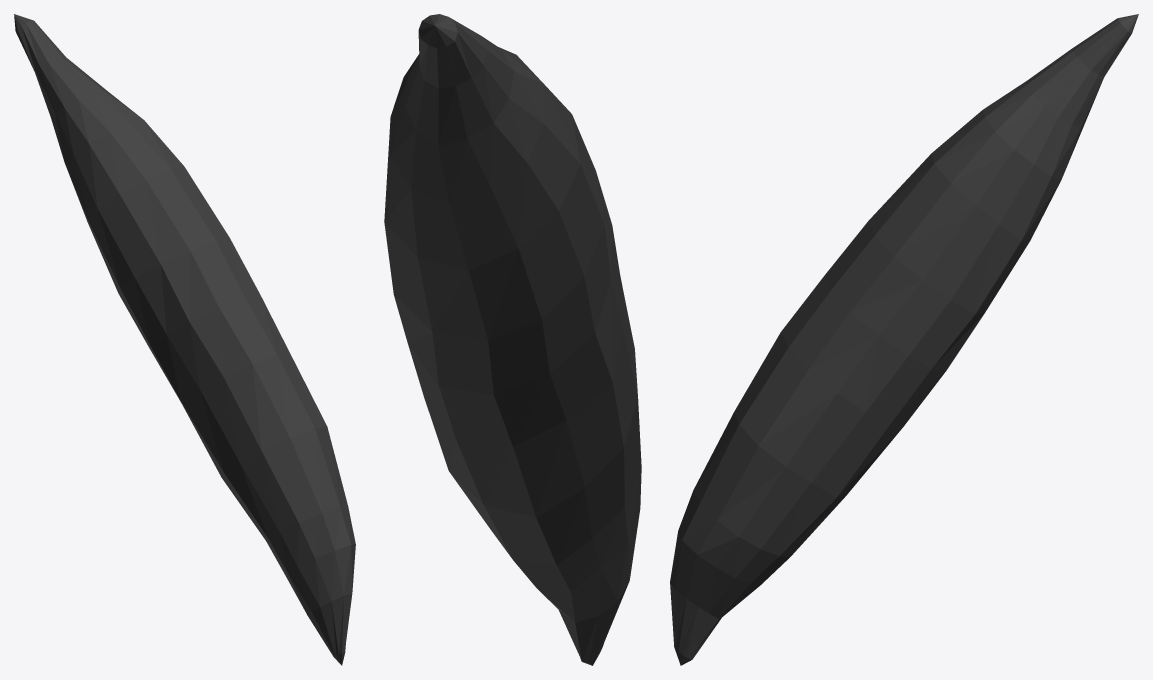
Rendered from RectusFemoris.glb.
3 renders of one model, left to right at view 1: azimuth 30°, elevation 25°; view 2: azimuth 150°, elevation 25°; view 3: azimuth 270°, elevation 25°, orthographic. The views are drawn at different scales.
Parts seen in each view (by area): view 1: RectusFemoris; view 2: RectusFemoris; view 3: RectusFemoris.
Part boxes in pixels (box(x1,y1,x2,y2)): RectusFemoris: box(14, 14, 355, 665); RectusFemoris: box(384, 14, 641, 665); RectusFemoris: box(670, 14, 1138, 665).
Bounding box in the file's own units: 1.78 × 5.85 × 4.24.
1 material, 1 textured.
